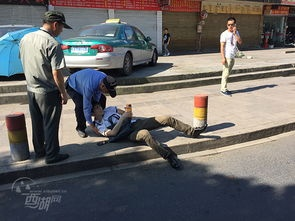fall: (80, 95, 209, 170)
